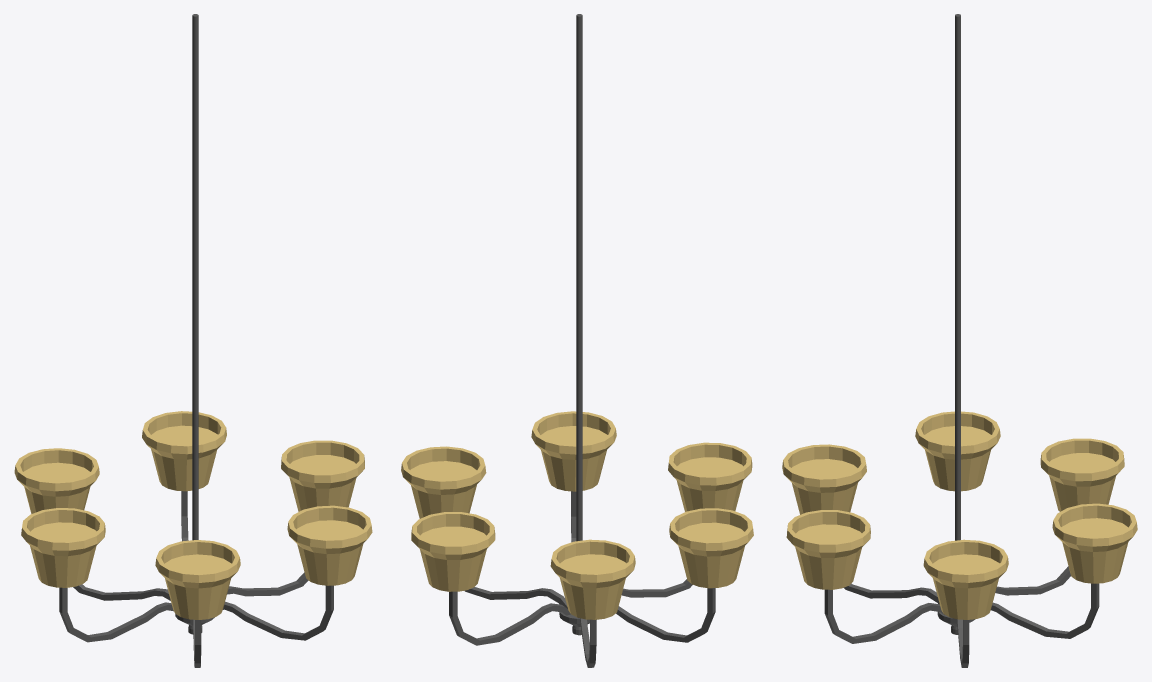
The model's file is Chandellear.fbx.
3 views of the same model, side by side, from view 1: azimuth 30°, elevation 25°; view 2: azimuth 150°, elevation 25°; view 3: azimuth 270°, elevation 25° (orthographic).
Parts seen in each view (by area): view 1: Cube.015, Cube.014; view 2: Cube.015, Cube.014; view 3: Cube.015, Cube.014.
Part boxes in pixels (<box>): Cube.015: <box>14,411,372,667</box>; Cube.014: <box>175,14,214,634</box>; Cube.015: <box>401,411,753,667</box>; Cube.014: <box>559,14,589,635</box>; Cube.015: <box>782,411,1137,667</box>; Cube.014: <box>937,14,974,634</box>.
Bounding box in the file's own units: 1930 × 3376 × 1759.
